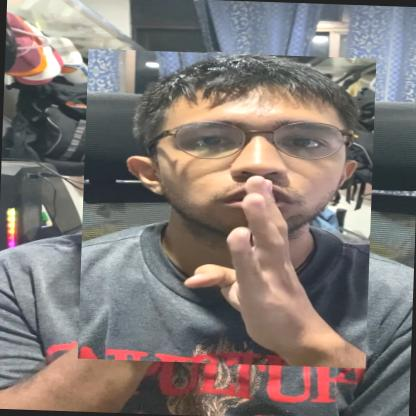Talk: (77, 49, 376, 368)
